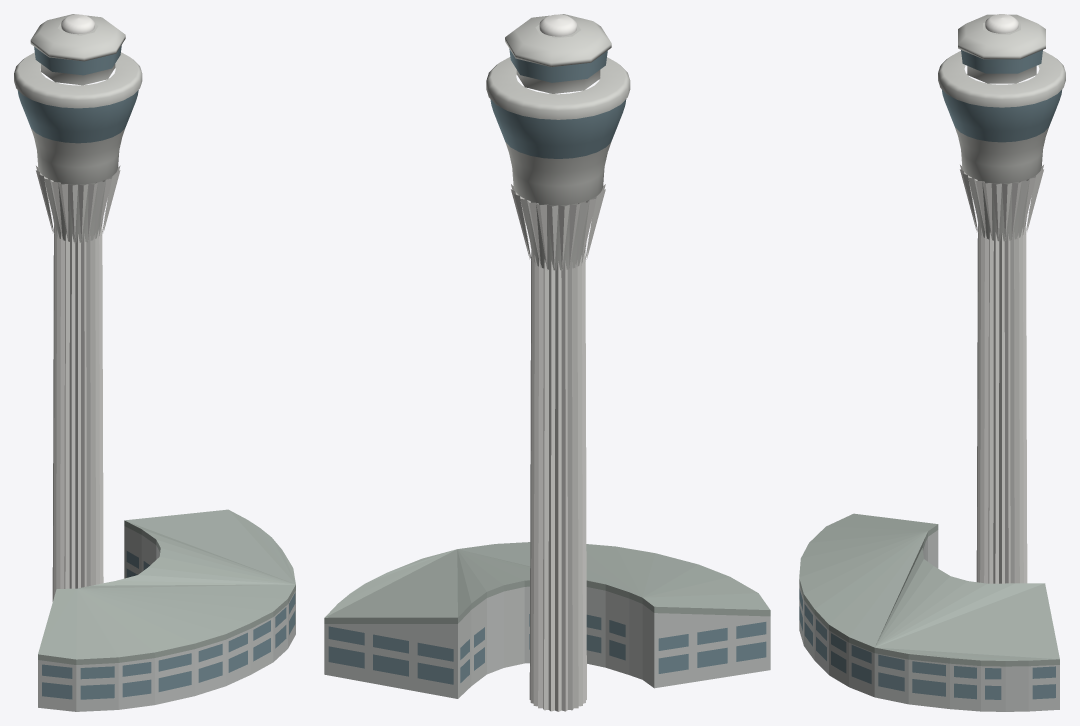
File: kl-klia-control-tower.glb
3 views of the same model, side by side, from view 1: azimuth 30°, elevation 25°; view 2: azimuth 150°, elevation 25°; view 3: azimuth 270°, elevation 25° (orthographic). The views are drawn at different scales.
Parts seen in each view (by area): view 1: KLIA Air Traffic Control Tower (Tower East); view 2: KLIA Air Traffic Control Tower (Tower East); view 3: KLIA Air Traffic Control Tower (Tower East).
Part boxes in pixels (box(x1,y1,x2,y2)): KLIA Air Traffic Control Tower (Tower East): box(14, 14, 295, 711); KLIA Air Traffic Control Tower (Tower East): box(324, 14, 770, 711); KLIA Air Traffic Control Tower (Tower East): box(799, 14, 1065, 711).
Bounding box in the file's own units: 66.93 × 130 × 51.98.
